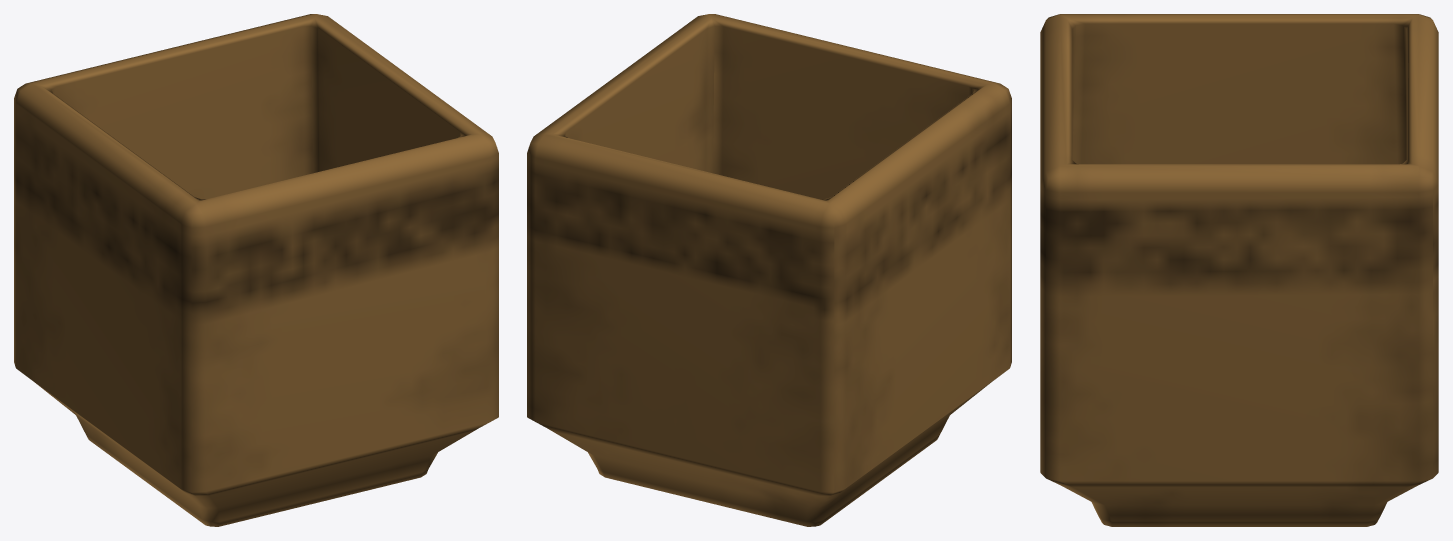
Rendered from Pot_1.fbx.
3 views of the same model, side by side, from view 1: azimuth 30°, elevation 25°; view 2: azimuth 150°, elevation 25°; view 3: azimuth 270°, elevation 25° (orthographic). The views are drawn at different scales.
Visible parts, largest first — view 1: Pot_1; view 2: Pot_1; view 3: Pot_1.
Boxes of the visible parts, x1,y1,x2,y2 form: Pot_1: (14, 14, 498, 526); Pot_1: (527, 14, 1011, 526); Pot_1: (1040, 14, 1438, 526).
Size of the model in its own units: 37.02 by 39.11 by 37.02.
